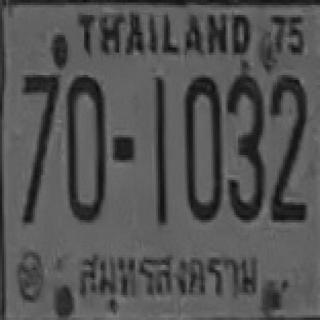N00: (182, 75, 222, 220), (67, 74, 106, 221)
N01: (155, 76, 165, 189)
N02: (269, 75, 306, 195)
N03: (225, 74, 262, 221), (225, 88, 262, 220)
N07: (22, 72, 59, 165), (22, 72, 59, 155)
P59: (69, 244, 266, 314)
